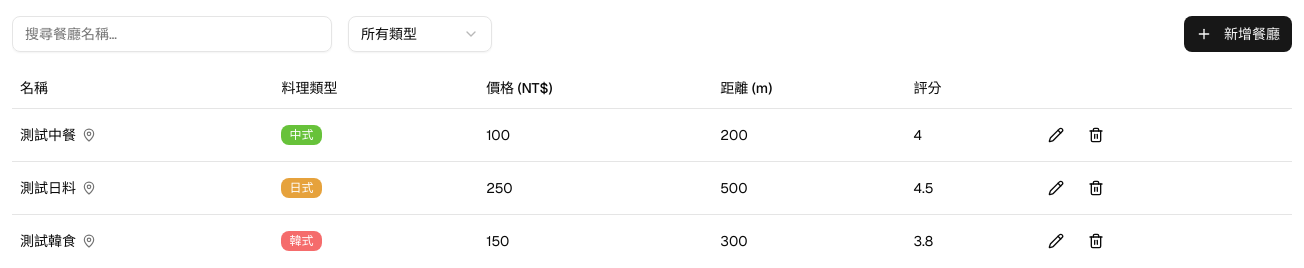
Test: RestaurantListPanel (admin CRUD) › edit mode: cancel discards changes
Click the button named "編輯" in the row of "測試中餐" at point(1056, 134), box [1038, 116, 1074, 152]
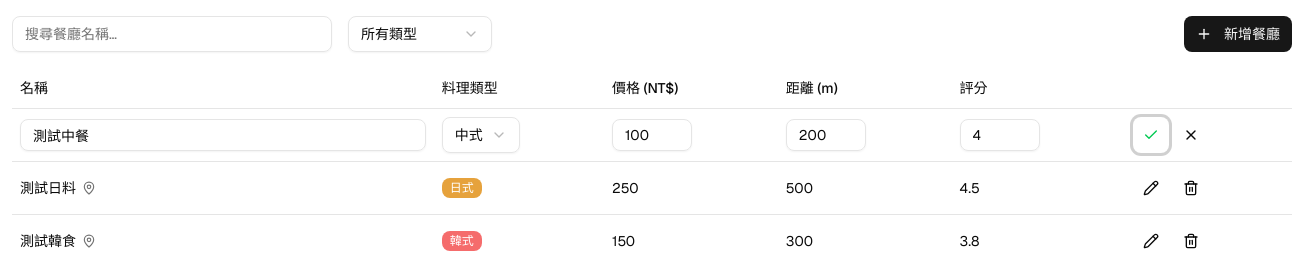
Replace the text in the field named "編輯名稱" with "改過的名字" at point(223, 134), box [20, 118, 426, 150]
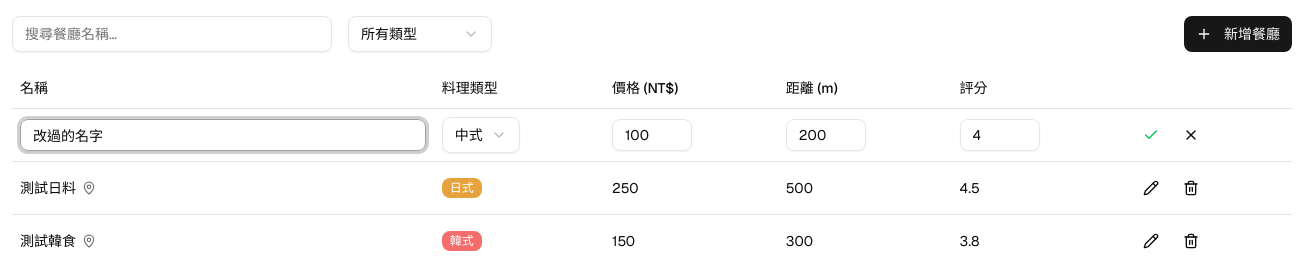
Click the button named "取消編輯" at point(1191, 134), box [1173, 116, 1209, 152]
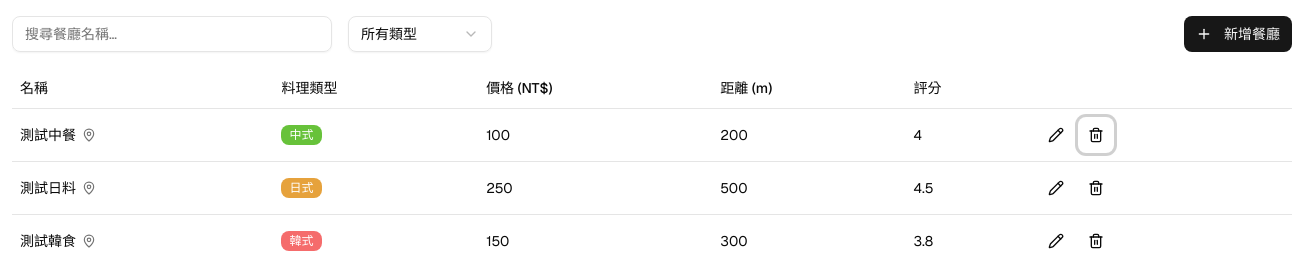
Check: the text "測試中餐" is shown, box [20, 124, 96, 144]
Check: the field labelled "編輯名稱" is gone
